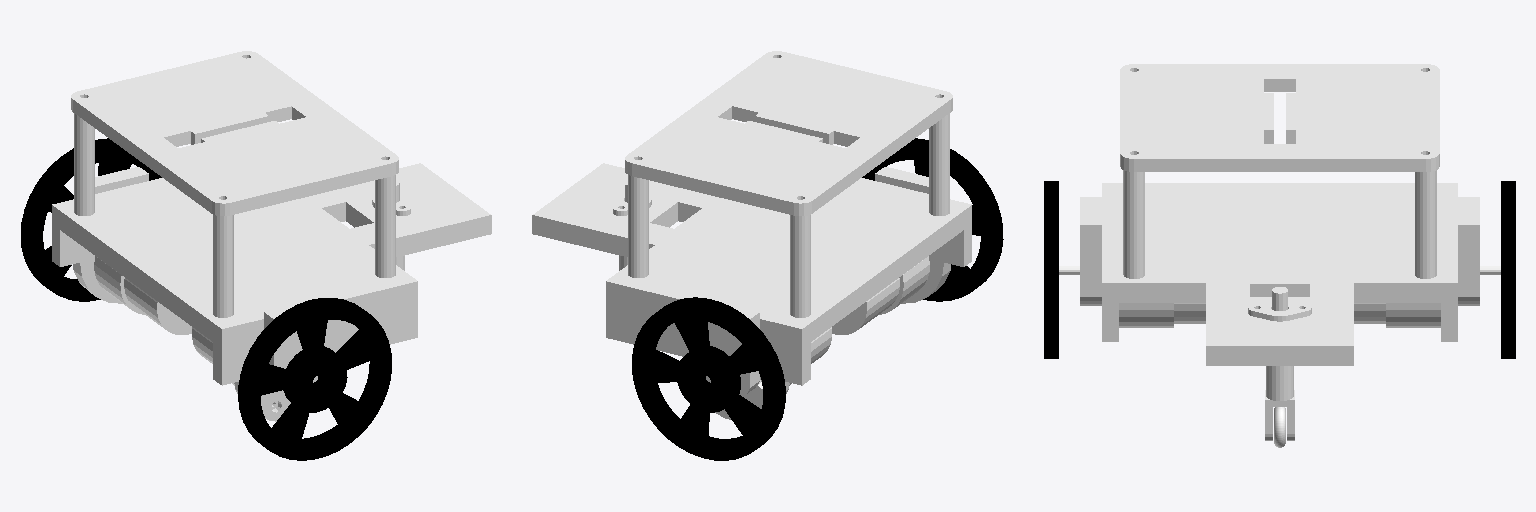
The robot description file, URDF, robot "two_wheel_robot":
<?xml version="1.0" encoding="utf-8"?>
<robot
  name="two_wheel_robot">
  <link
    name="base_link">
    <inertial>
      <origin
        xyz="0.0181995182140738 -3.2612801348364E-16 -0.00276660416271973"
        rpy="0 0 0" />
      <mass
        value="0.443722021822356" />
      <inertia
        ixx="0.000696660783343318"
        ixy="-4.10541788338937E-18"
        ixz="-1.73835831247213E-05"
        iyy="0.000483852662901766"
        iyz="-9.39165770832175E-20"
        izz="0.00110580849651397" />
    </inertial>
    <visual>
      <origin
        xyz="0 0 0"
        rpy="0 0 0" />
      <geometry>
        <mesh
          filename="package://two_wheel_robot/meshes/base_link.STL" />
      </geometry>
      <material
        name="white">
        <color
          rgba="255 255 255 1" />
      </material>
    </visual>
    <collision>
      <origin
        xyz="0 0 0"
        rpy="0 0 0" />
      <geometry>
        <mesh
          filename="package://two_wheel_robot/meshes/base_link.STL" />
      </geometry>
      <surface>
        <friction>
          <ode>
            <mu>0.001</mu>
            <mu2>0.001</mu2>
          </ode>
        </friction>
      </surface>
    </collision>
  </link>
  <link
    name="left_wheel">
    <inertial>
      <origin
        xyz="-5.55111512312578E-16 -0.003175 5.96744875736022E-16"
        rpy="0 0 0" />
      <mass
        value="0.0200098005396681" />
      <inertia
        ixx="8.1981759107312E-06"
        ixy="-1.00227236420066E-21"
        ixz="-2.27167310991176E-21"
        iyy="1.62618776244189E-05"
        iyz="-1.73164708639823E-22"
        izz="8.1981759107312E-06" />
    </inertial>
    <visual>
      <origin
        xyz="0 0 0"
        rpy="0 0 0" />
      <geometry>
        <mesh
          filename="package://two_wheel_robot/meshes/left_wheel.STL" />
      </geometry>
      <material
        name="black">
        <color
          rgba="0 0 0 1" />
      </material>
    </visual>
    <collision>
      <origin
        xyz="0 0 0"
        rpy="0 0 0" />
      <geometry>
        <mesh
          filename="package://two_wheel_robot/meshes/left_wheel.STL" />
      </geometry>
      <surface>
        <friction>
          <ode>
            <mu>1000</mu>
            <mu2>1000</mu2>
          </ode>
        </friction>
      </surface>
    </collision>
  </link>
  <joint
    name="left_joint"
    type="continuous">
    <origin
      xyz="0 0.10055 -0.024525"
      rpy="0 0 0" />
    <parent
      link="base_link" />
    <child
      link="left_wheel" />
    <axis
      xyz="0 1 0" />
  </joint>
  <link
    name="right_wheel">
    <inertial>
      <origin
        xyz="2.77555756156289E-17 0.00317500000000001 -7.63278329429795E-17"
        rpy="0 0 0" />
      <mass
        value="0.0200098005396681" />
      <inertia
        ixx="8.19817591073118E-06"
        ixy="1.19139779353411E-21"
        ixz="-5.16987882845644E-22"
        iyy="1.62618776244189E-05"
        iyz="2.65399463552688E-23"
        izz="8.19817591073119E-06" />
    </inertial>
    <visual>
      <origin
        xyz="0 0 0"
        rpy="0 0 0" />
      <geometry>
        <mesh
          filename="package://two_wheel_robot/meshes/right_wheel.STL" />
      </geometry>
      <material
        name="black">
        <color
          rgba="0 0 0 1" />
      </material>
    </visual>
    <collision>
      <origin
        xyz="0 0 0"
        rpy="0 0 0" />
      <geometry>
        <mesh
          filename="package://two_wheel_robot/meshes/right_wheel.STL" />
      </geometry>
      <surface>
        <friction>
          <ode>
            <mu>1000</mu>
            <mu2>1000</mu2>
          </ode>
        </friction>
      </surface>
    </collision>
  </link>
  <joint
    name="right_joint"
    type="continuous">
    <origin
      xyz="0 -0.10055 -0.024525"
      rpy="0 0 0" />
    <parent
      link="base_link" />
    <child
      link="right_wheel" />
    <axis
      xyz="0 1 0" />
  </joint>
  <transmission name="left_trans">
    <type>transmission_interface/SimpleTransmission</type>
    <joint name="left_joint">
      <hardwareInterface>EffortJointInterface</hardwareInterface>
    </joint>
    <actuator name="left_motor">
      <hardwareInterface>EffortJointInterface</hardwareInterface>
      <mechanicalReduction>1</mechanicalReduction>
    </actuator>
  </transmission>
  <transmission name="right_trans">
    <type>transmission_interface/SimpleTransmission</type>
    <joint name="right_joint">
      <hardwareInterface>EffortJointInterface</hardwareInterface>
    </joint>
    <actuator name="right_motor">
      <hardwareInterface>EffortJointInterface</hardwareInterface>
      <mechanicalReduction>1</mechanicalReduction>
    </actuator>
  </transmission>
<gazebo>
  <plugin name="differential_drive_controller" filename="libgazebo_ros_diff_drive.so">
    <!-- Plugin update rate in Hz -->
    <updateRate>10</updateRate>
    <!-- Name of left joint, defaults to `left_joint` -->
    <leftJoint>left_joint</leftJoint>
    <!-- Name of right joint, defaults to `right_joint` -->
    <rightJoint>right_joint</rightJoint>
    <!-- The distance from the center of one wheel to the other, in meters, defaults to 0.34 m -->
    <wheelSeparation>0.1883</wheelSeparation>
    <!-- Diameter of the wheels, in meters, defaults to 0.15 m -->
    <wheelDiameter>0.0762</wheelDiameter>
    <!-- Maximum torque which the wheels can produce, in Nm, defaults to 5 Nm -->
    <wheelTorque>5</wheelTorque>
    <!-- Topic to receive geometry_msgs/Twist message commands, defaults to `cmd_vel` -->
    <commandTopic>cmd_vel</commandTopic>
    <!-- Topic to publish nav_msgs/Odometry messages, defaults to `odom` -->
    <odometryTopic>odom</odometryTopic>
    <!-- Odometry frame, defaults to `odom` -->
    <odometryFrame>odom</odometryFrame>
    <!-- Robot frame to calculate odometry from, defaults to `base_footprint` -->
    <robotBaseFrame>base_link</robotBaseFrame>
    <!-- Odometry source, 0 for ENCODER, 1 for WORLD, defaults to WORLD -->
    <odometrySource>1</odometrySource>
    <!-- Set to true to publish transforms for the wheel links, defaults to false -->
    <publishWheelTF>true</publishWheelTF>
    <!-- Set to true to publish transforms for the odometry, defaults to true -->
    <publishOdom>true</publishOdom>
    <!-- Set to true to publish sensor_msgs/JointState on /joint_states for the wheel joints, defaults to false -->
    <publishWheelJointState>true</publishWheelJointState>
    <!-- Set to true to swap right and left wheels, defaults to true -->
    <legacyMode>false</legacyMode>
  </plugin>
</gazebo>
</robot>

--- Render facts (derived) ---
The picture shows the robot from 3 angles, left to right: view 1: azimuth 30°, elevation 25°; view 2: azimuth 150°, elevation 25°; view 3: azimuth 270°, elevation 25°; orthographic projection.
Model two_wheel_robot with 3 links and 2 joints (2 continuous), rooted at base_link, posed all joints at 0.
Links seen in each view (by area): view 1: base_link, right_wheel, left_wheel; view 2: base_link, left_wheel, right_wheel; view 3: base_link, left_wheel, right_wheel.
Boxes of the visible links, left/top/right/bottom form: base_link: left=52, top=51, right=491, bottom=421; right_wheel: left=238, top=298, right=391, bottom=460; left_wheel: left=21, top=138, right=161, bottom=301; base_link: left=532, top=51, right=971, bottom=419; left_wheel: left=632, top=297, right=785, bottom=460; right_wheel: left=862, top=138, right=1003, bottom=301; base_link: left=1059, top=64, right=1500, bottom=447; left_wheel: left=1501, top=181, right=1515, bottom=358; right_wheel: left=1044, top=181, right=1058, bottom=358.
Size in the robot's own frame: 0.1672 by 0.2011 by 0.1198 metres.
3 mesh visuals loaded from 3 distinct referenced files (3 binary STL).